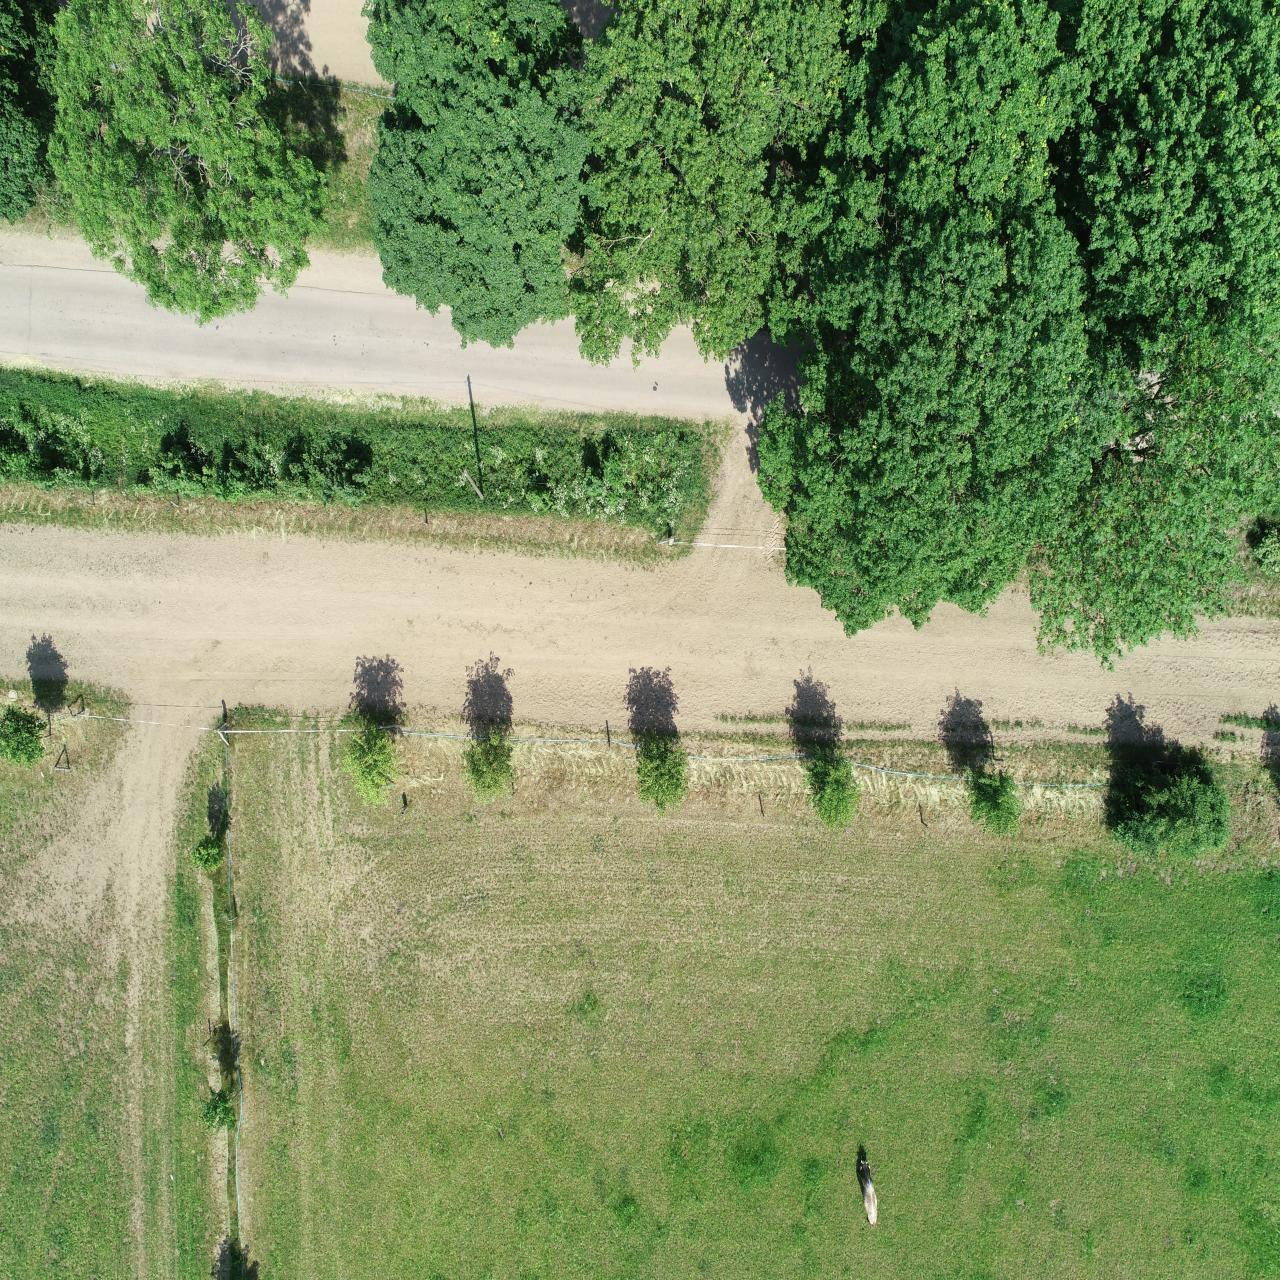cow: (855, 1156, 881, 1230)
